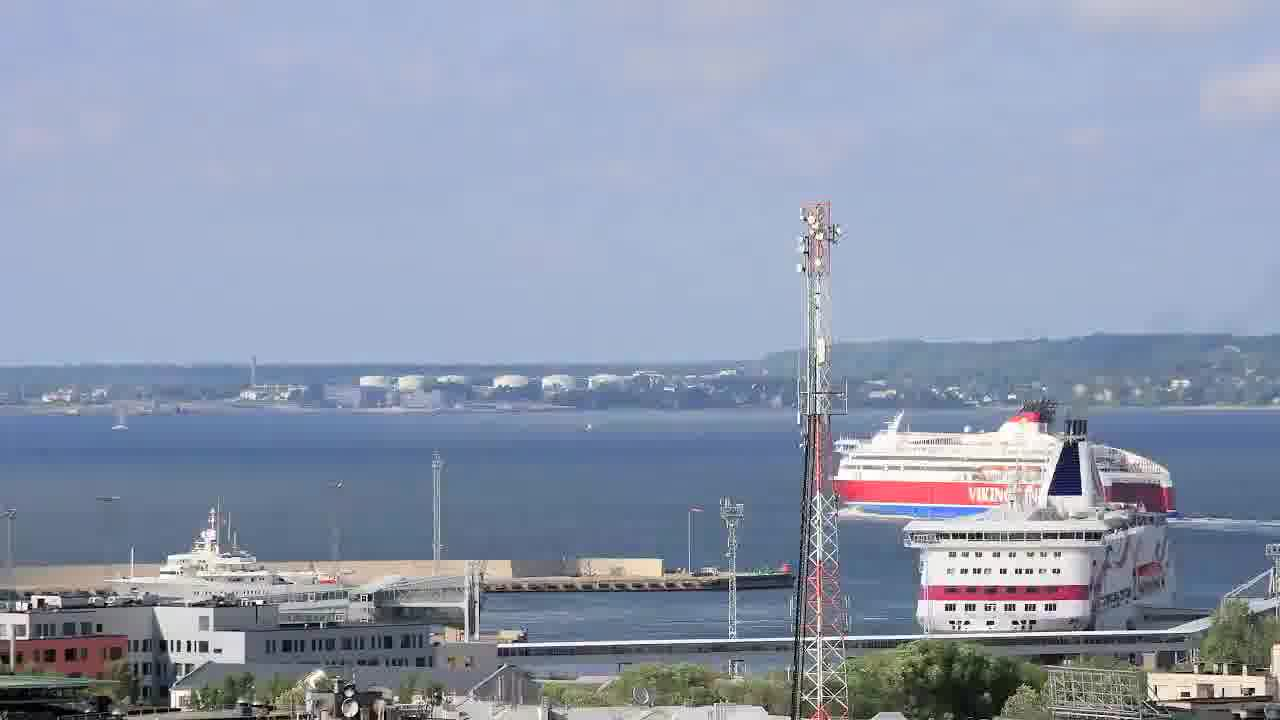type-2: (98, 393, 153, 450)
type-3: (889, 419, 1189, 638), (825, 405, 1175, 512), (89, 518, 402, 620)
